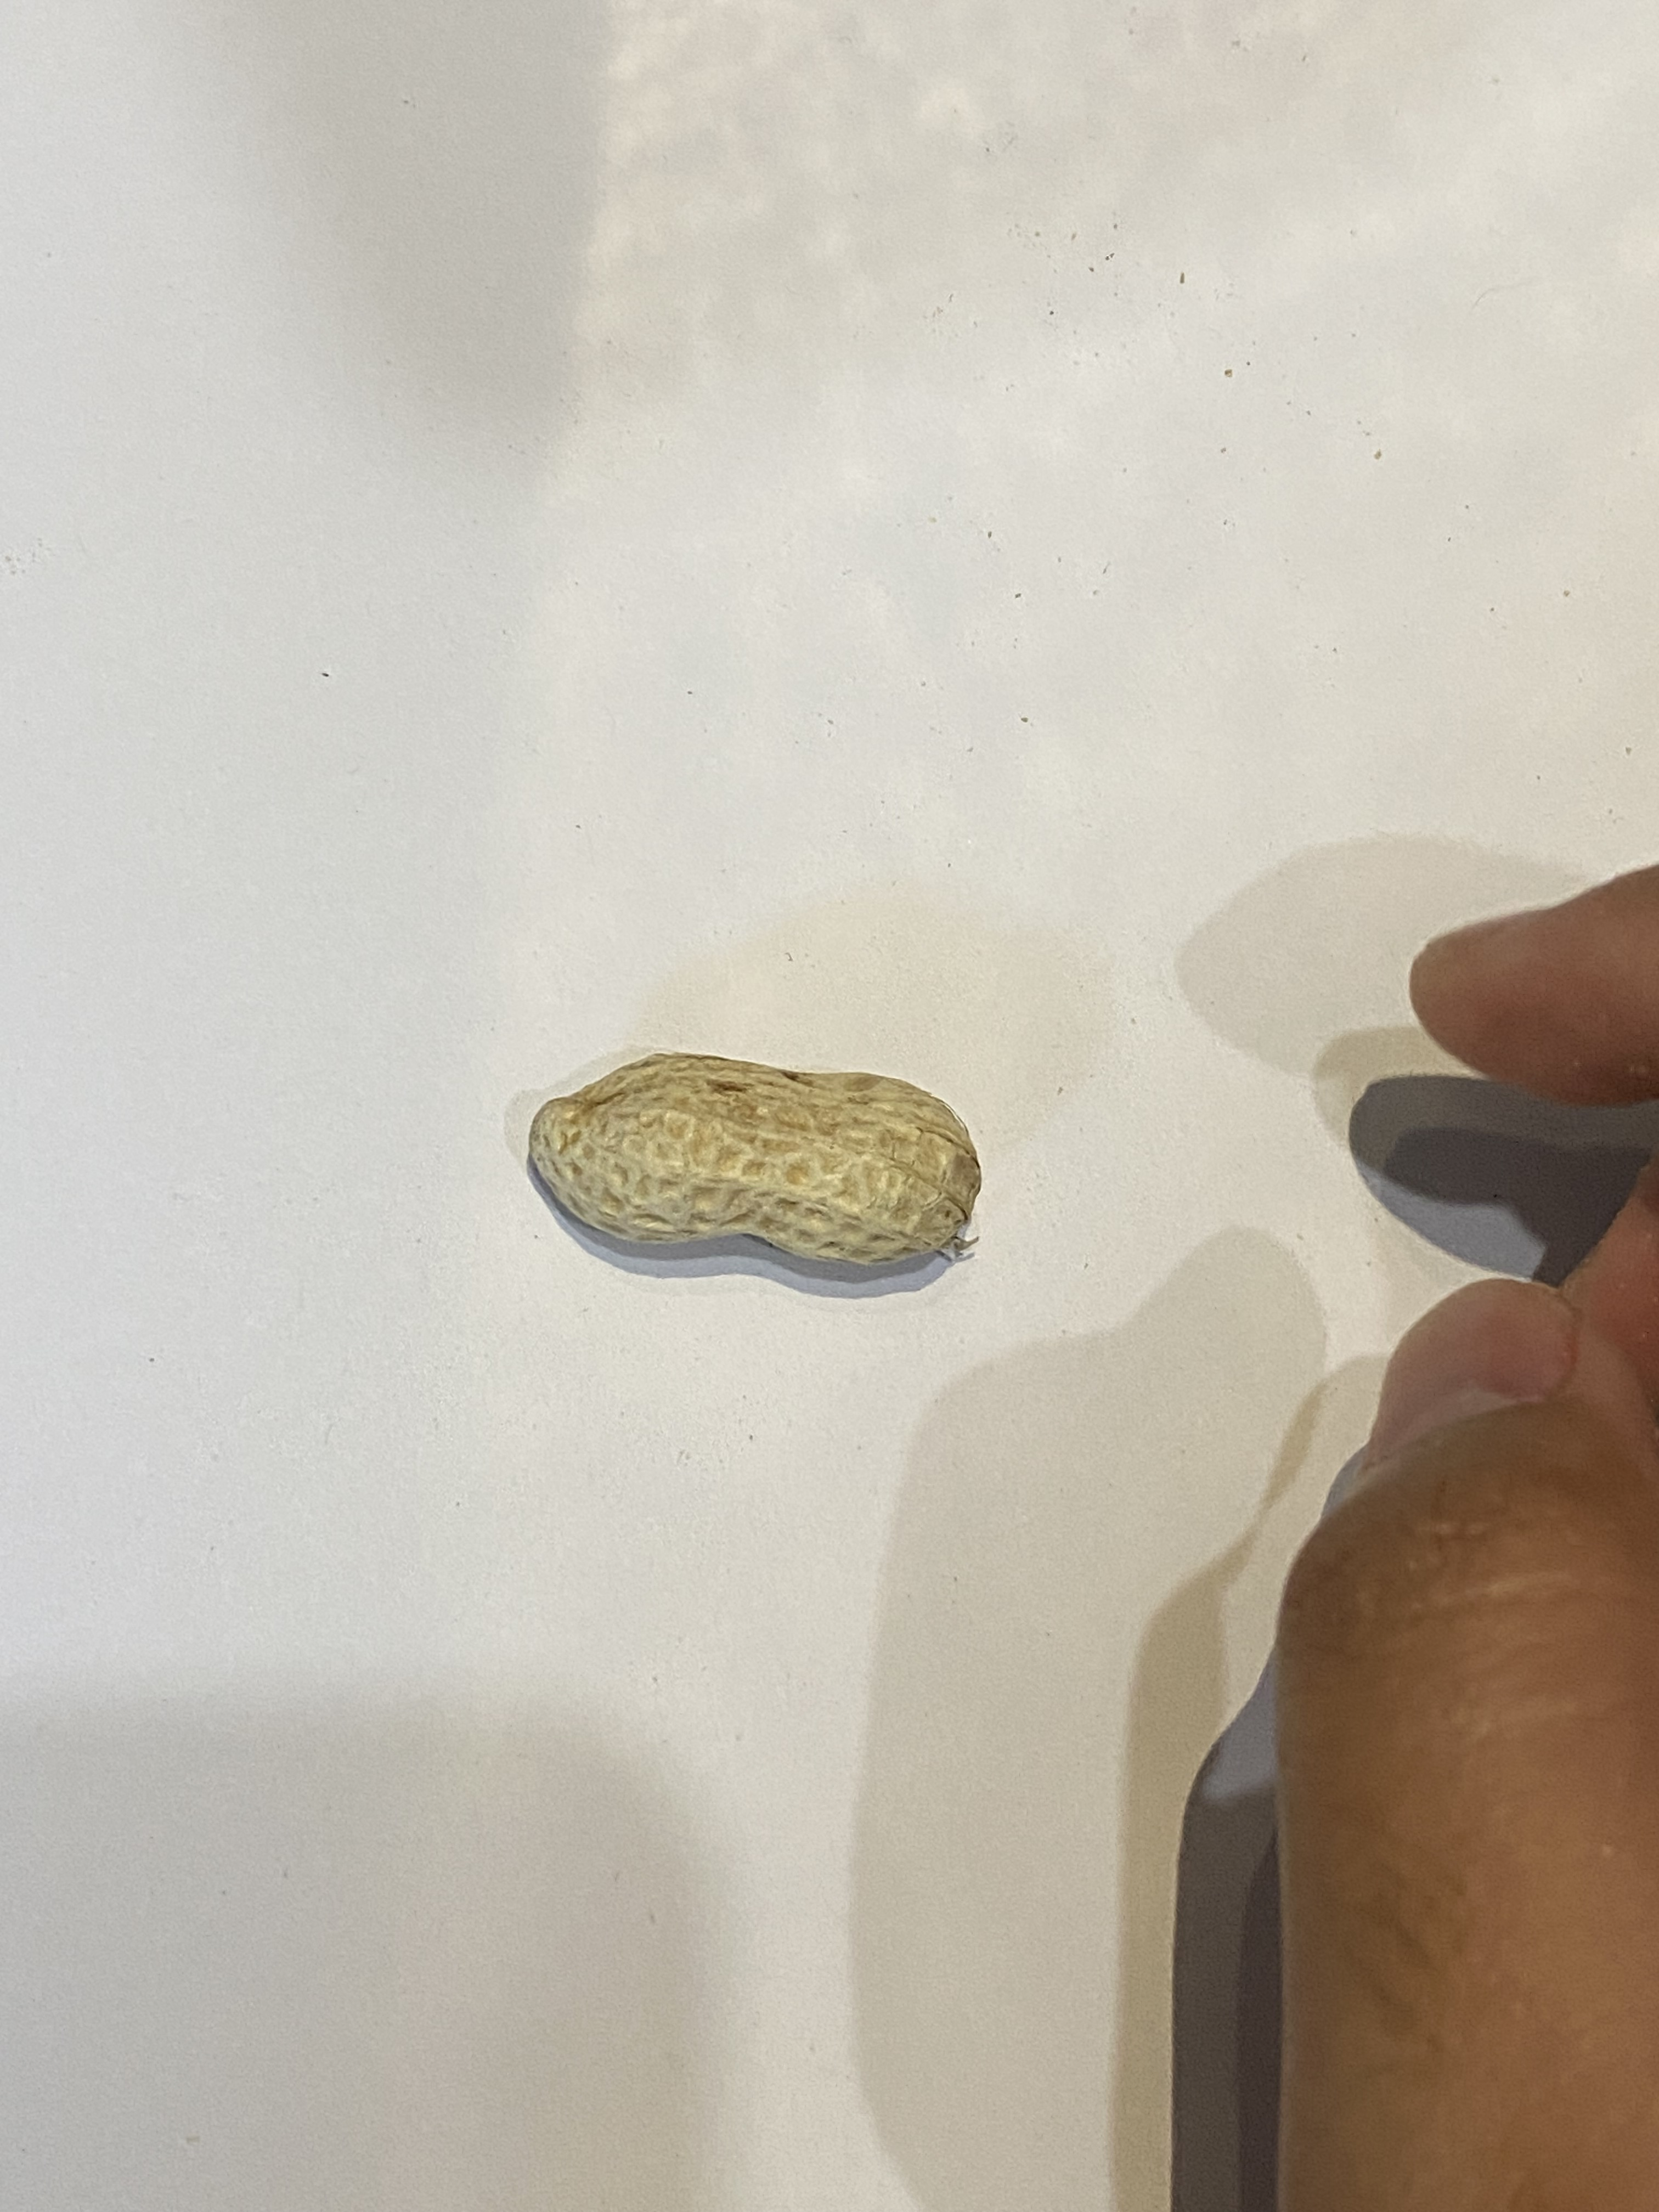kacang2: (495, 1052, 1006, 1284)
